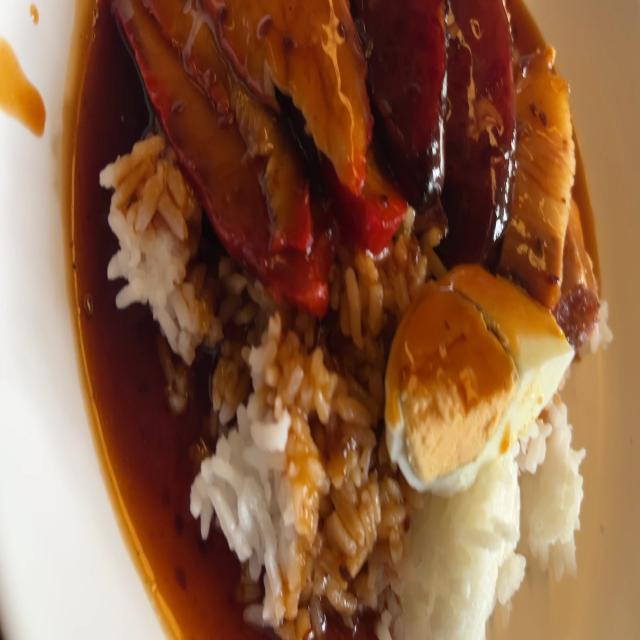red_pork_and_crispy_pork: (390, 265, 576, 485)
stir_fried_basil: (371, 0, 515, 262), (441, 9, 512, 265), (372, 0, 446, 208)
